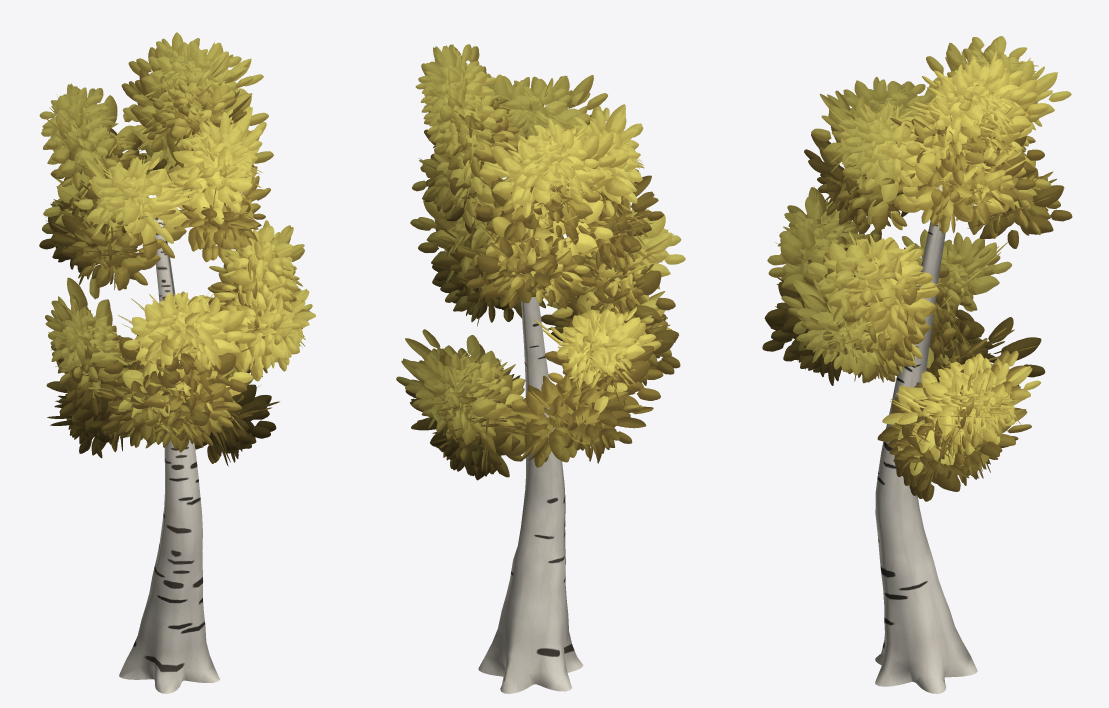
The model's file is tree_birch_autumn.glb.
3 views of the same model, side by side, from view 1: azimuth 30°, elevation 25°; view 2: azimuth 150°, elevation 25°; view 3: azimuth 270°, elevation 25° (orthographic). The views are drawn at different scales.
Parts seen in each view (by area): view 1: Canopy, tree_birch_autumn; view 2: Canopy, tree_birch_autumn; view 3: Canopy, tree_birch_autumn.
Boxes of the visible parts, <box> form: Canopy: <box>39,32,315,466</box>; tree_birch_autumn: <box>119,218,219,693</box>; Canopy: <box>396,44,685,480</box>; tree_birch_autumn: <box>478,239,583,693</box>; Canopy: <box>762,36,1072,501</box>; tree_birch_autumn: <box>875,185,977,693</box>.
Bounding box in the file's own units: 1.08 × 2.3 × 1.12.
2 materials, 2 textured.
